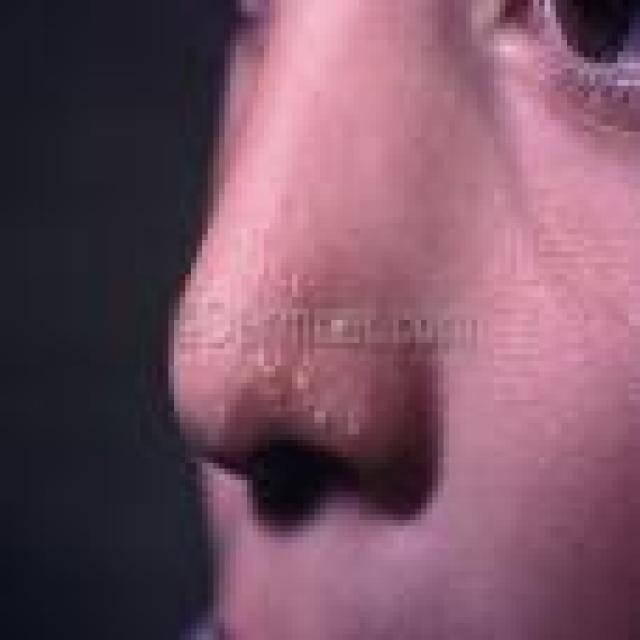Melasma: (178, 224, 369, 446)
